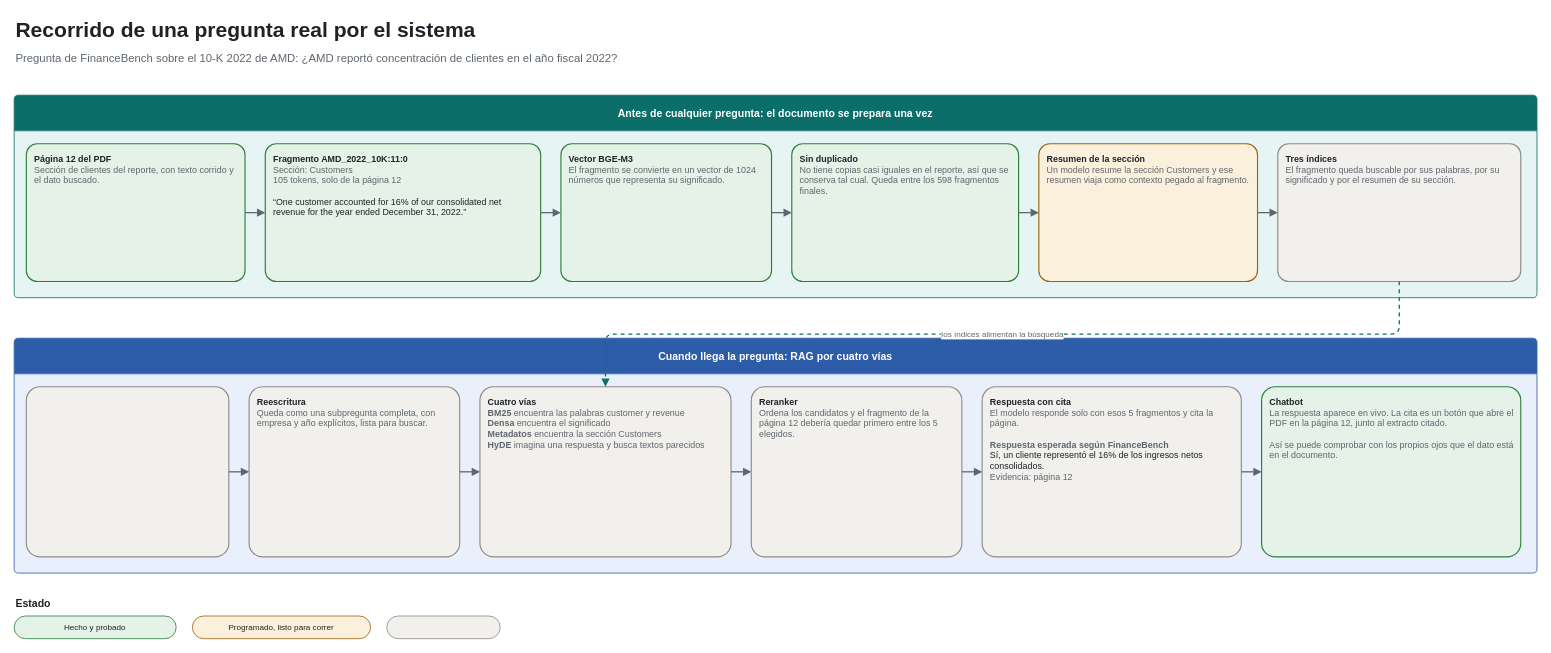
This 1551x653 diagram has some shape labels left out. Each missing label, with the centre of its shape:
"Pendiente" belongs at [443,627].
"Pregunta “Did AMD report customer concentration in FY22?”" belongs at [127,471].
